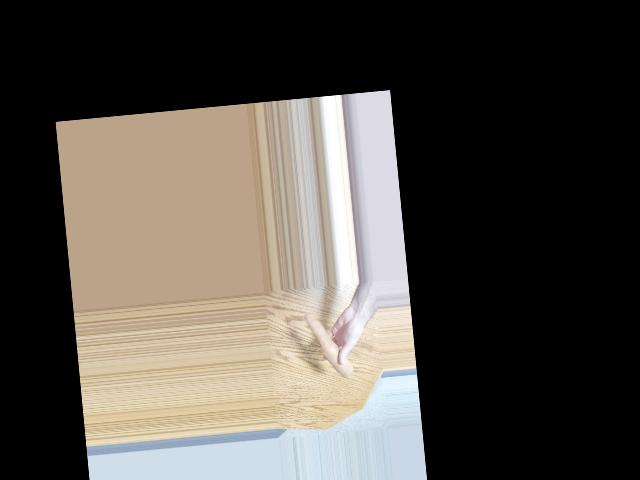sweet_potato: (309, 310, 352, 388)
